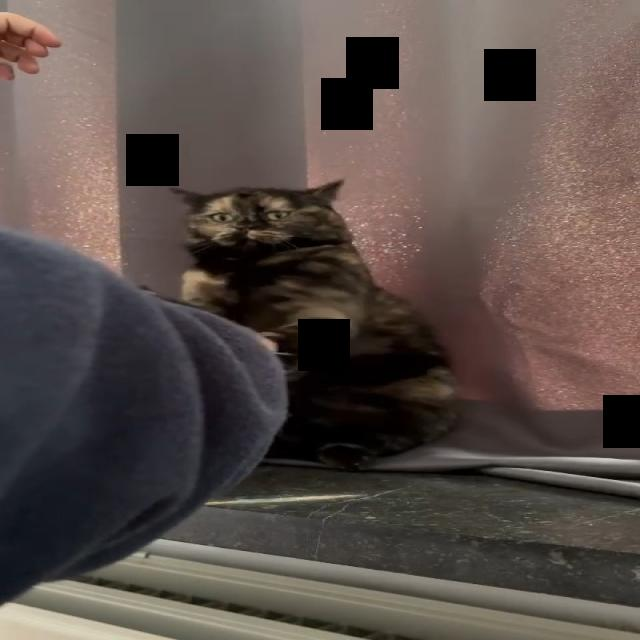authorized: (167, 177, 460, 471)
